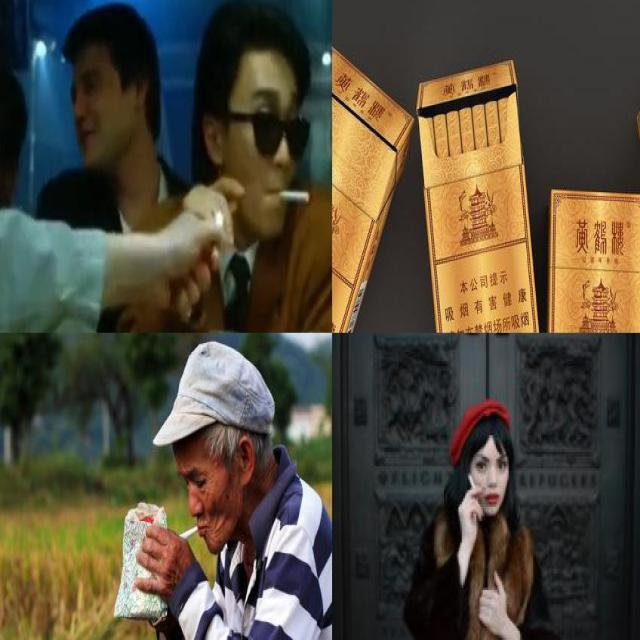smoking: (163, 520, 211, 546), (278, 190, 311, 206), (466, 474, 477, 492)
